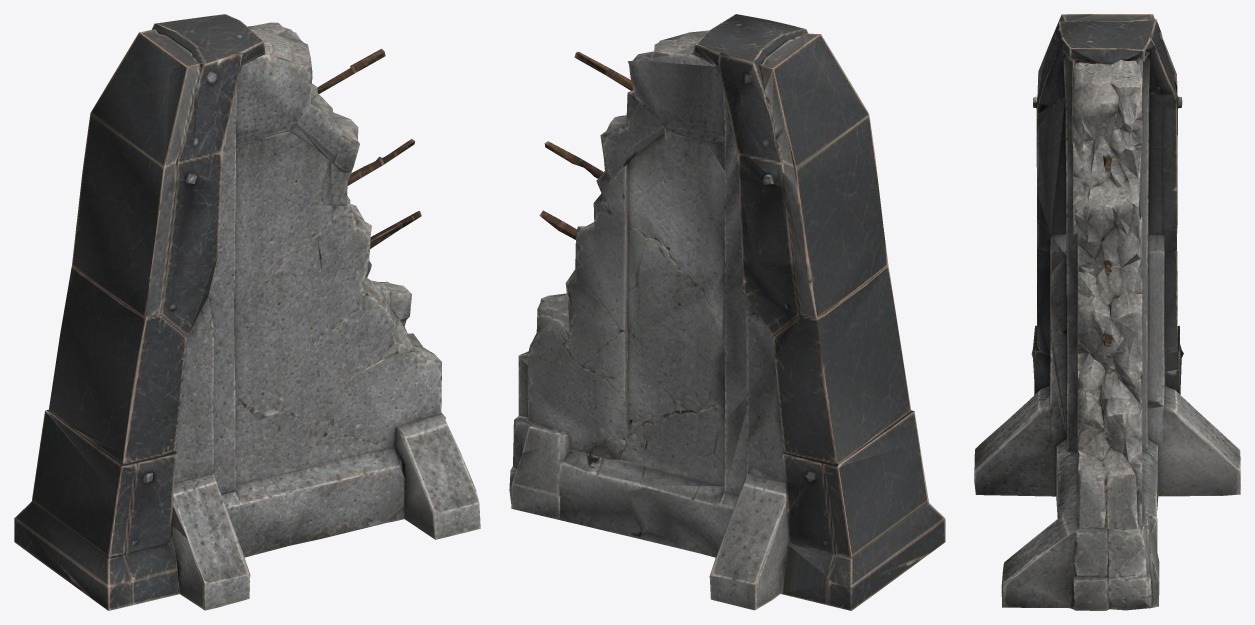
Rendered from shared_rubble_kit__wall_stub_medium_lod1.glb.
3 views of the same model, side by side, from view 1: azimuth 30°, elevation 25°; view 2: azimuth 150°, elevation 25°; view 3: azimuth 270°, elevation 25° (orthographic). The views are drawn at different scales.
Parts seen in each view (by area): view 1: mesh_node; view 2: mesh_node; view 3: mesh_node.
Part boxes in pixels (x1=…): mesh_node: x1=14, y1=14, x2=480, y2=610; mesh_node: x1=509, y1=14, x2=945, y2=610; mesh_node: x1=974, y1=14, x2=1240, y2=610.
Bounding box in the file's own units: 3.27 × 4.27 × 2.16.
1 material, 1 textured.
